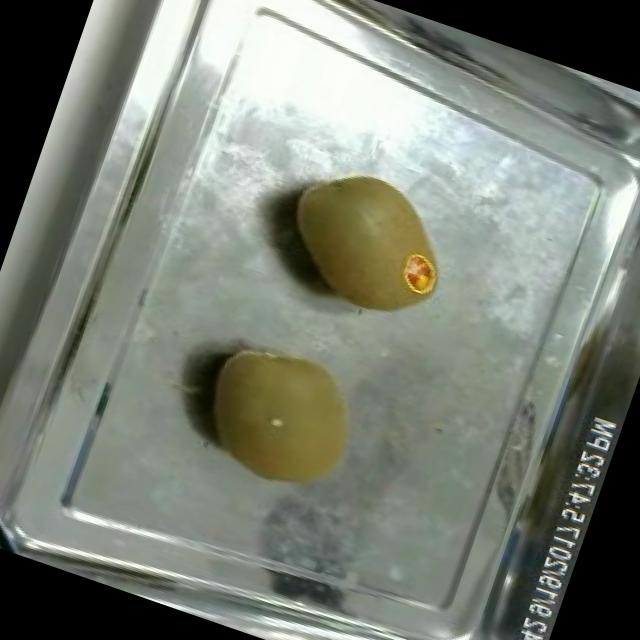Fruit: (255, 140, 474, 340), (182, 324, 380, 509)
